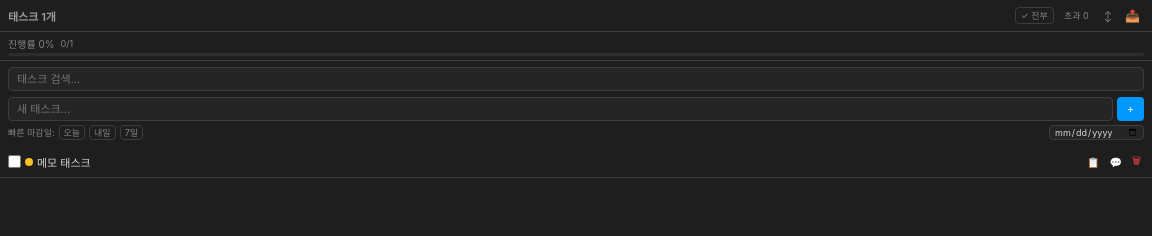
Test: TasksPanel › 메모 버튼 클릭 시 메모 textarea가 표시된다
Click the button titled "메모".
click(1116, 162)  # box [1106,154,1125,168]
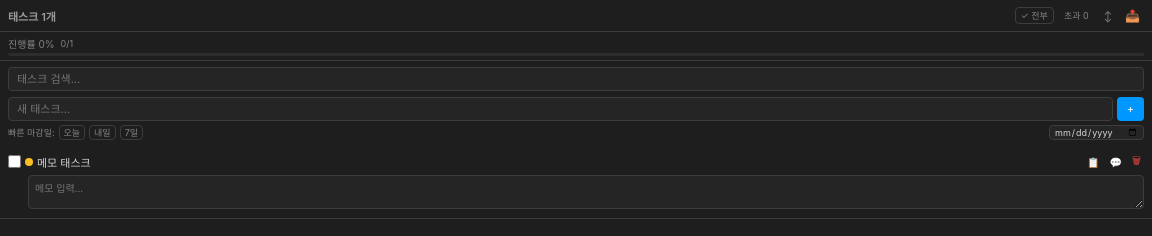
Expected: the text box with placeholder "메모 입력..." is shown, [28,175,1144,209]
